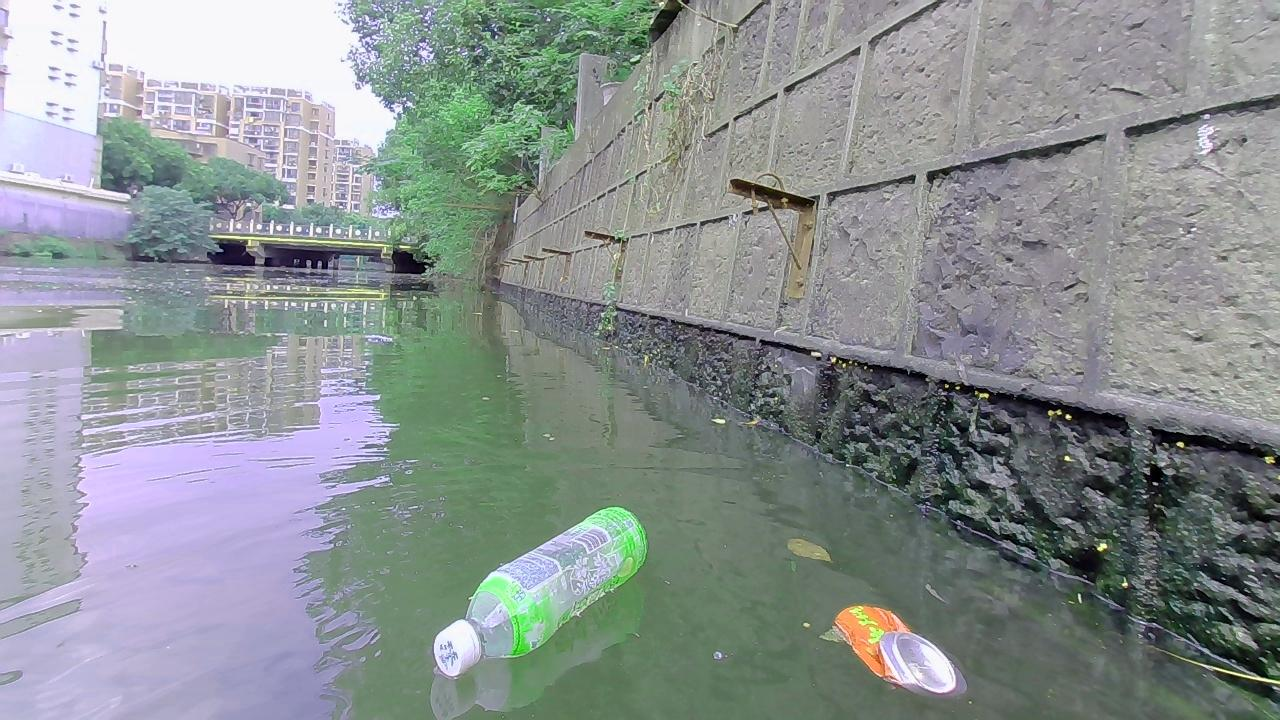Metal: (832, 604, 962, 696)
Plastic: (431, 505, 650, 679)
